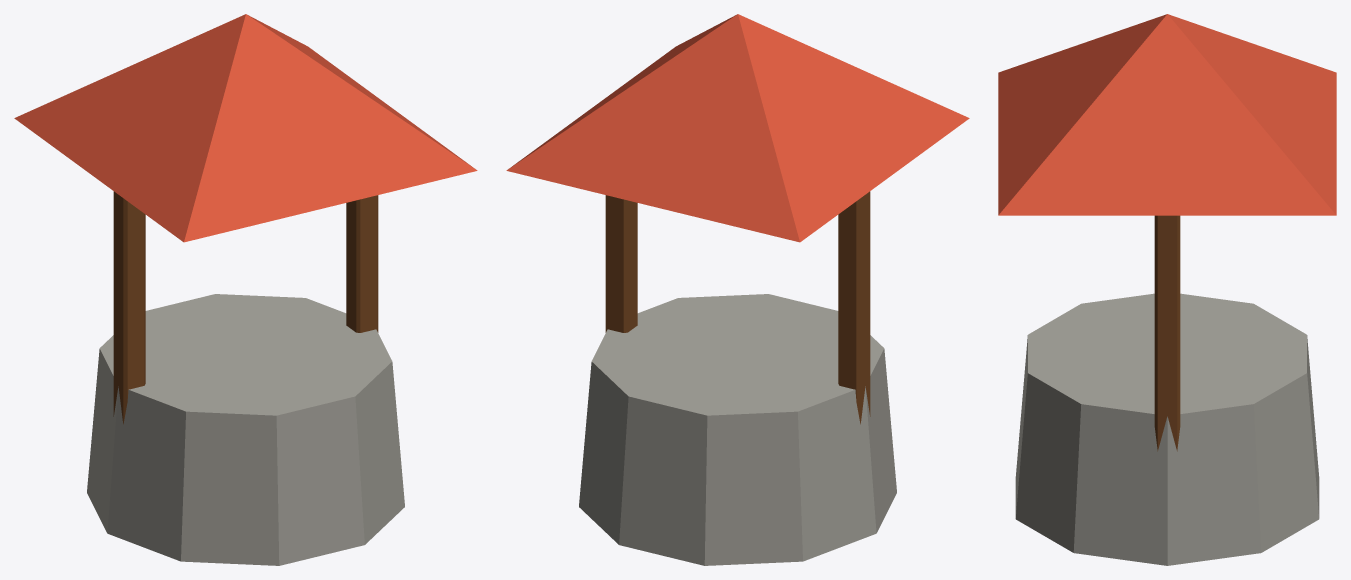
File: well.glb
3 renders of one model, left to right at view 1: azimuth 30°, elevation 25°; view 2: azimuth 150°, elevation 25°; view 3: azimuth 270°, elevation 25°, orthographic.
Visible parts, largest first — view 1: Ring, Roof, PostL, PostR; view 2: Ring, Roof, PostL, PostR; view 3: Ring, Roof, PostR.
Part boxes in pixels (left/top/right/bottom): Ring: left=87, top=294, right=404, bottom=565; Roof: left=14, top=14, right=477, bottom=242; PostL: left=113, top=191, right=145, bottom=424; PostR: left=346, top=195, right=378, bottom=332; Ring: left=579, top=294, right=896, bottom=565; Roof: left=506, top=14, right=969, bottom=242; PostL: left=838, top=191, right=870, bottom=424; PostR: left=605, top=195, right=637, bottom=332; Ring: left=1015, top=293, right=1319, bottom=565; Roof: left=998, top=14, right=1336, bottom=215; PostR: left=1154, top=215, right=1180, bottom=451.
Size of the model in its own units: 1.06 by 1.68 by 1.06.
